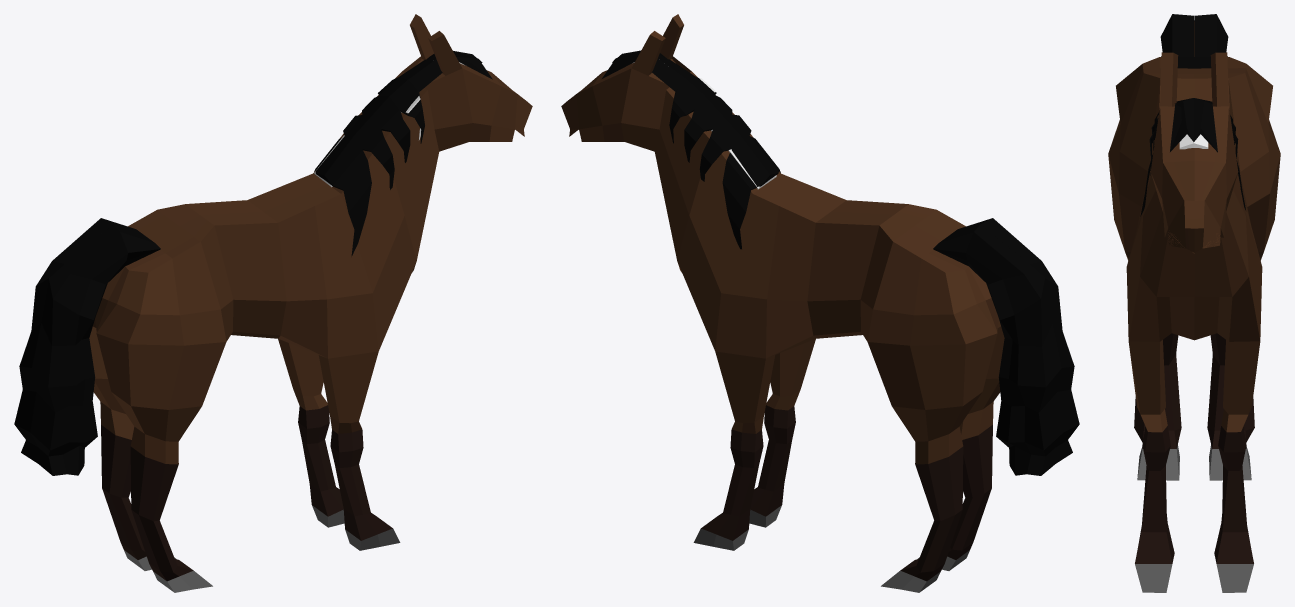
File: Horse .fbx
3 renders of one model, left to right at view 1: azimuth 30°, elevation 25°; view 2: azimuth 150°, elevation 25°; view 3: azimuth 270°, elevation 25°, orthographic. The views are drawn at different scales.
Visible parts, largest first — view 1: Horse, Head hair.001; view 2: Horse, Head hair.001; view 3: Horse, Head hair.001, Head hair.
Part boxes in pixels (box(x1,y1,x2,y2)): Horse: box(14, 14, 532, 592); Head hair.001: box(314, 51, 492, 256); Horse: box(561, 14, 1079, 592); Head hair.001: box(602, 50, 780, 249); Horse: box(1108, 14, 1280, 592); Head hair.001: box(1140, 98, 1245, 216); Head hair: box(1179, 134, 1208, 149).
Size of the model in its own units: 198 by 186 by 51.07.
